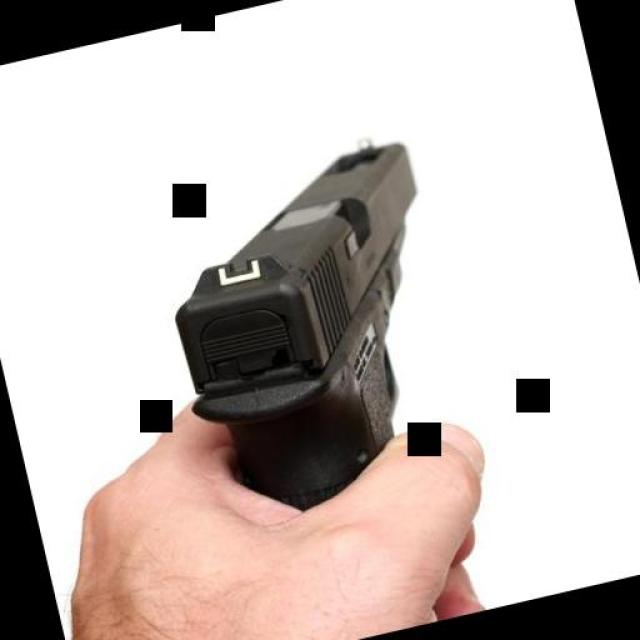gun: (135, 120, 485, 536)
